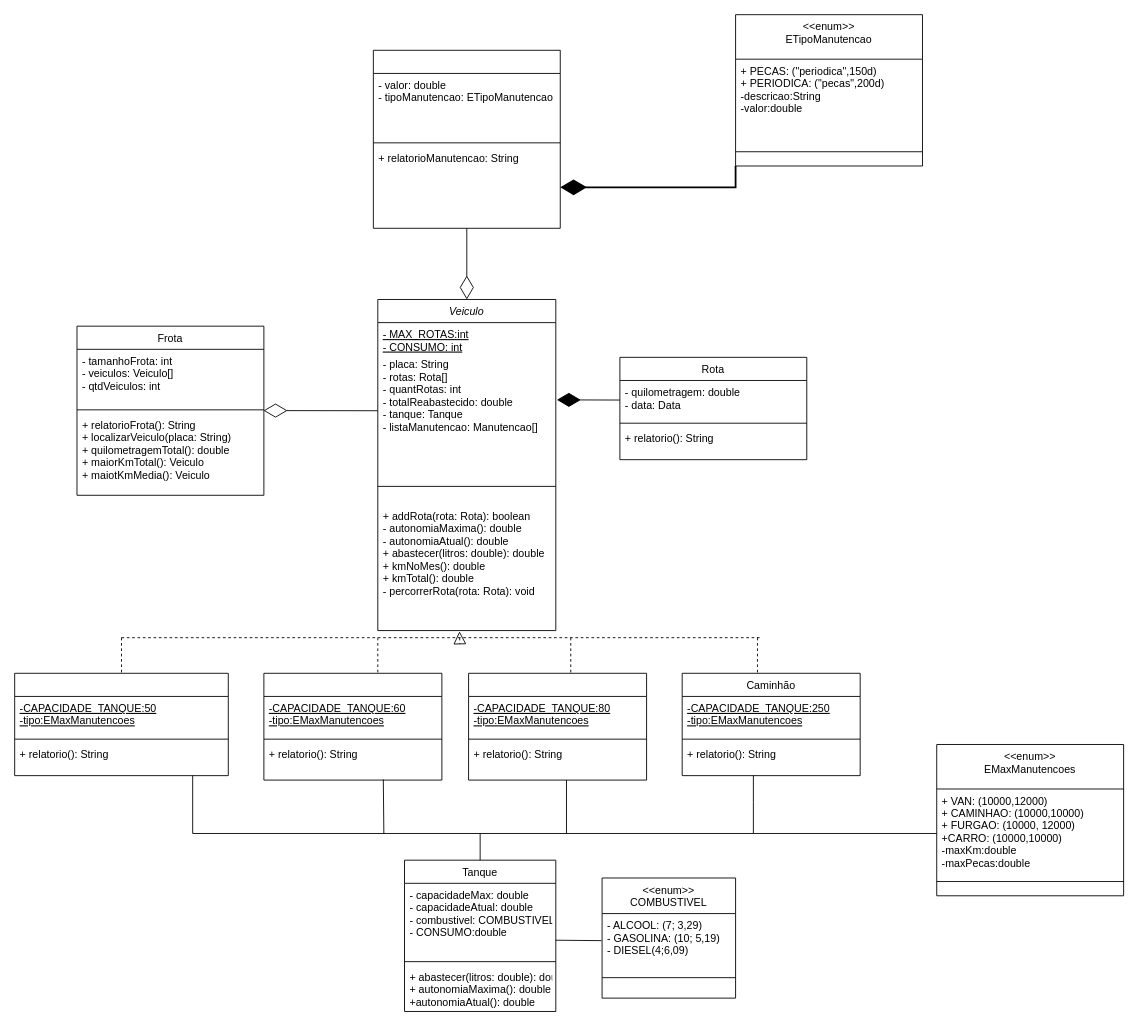
The diagram is 1138 pixels wide and 1026 high, and some of its shapes have lost their labels. The shapes that lost their labels are listed below. From the top down, each one's box as (x1, y1, x2, y2) in pixels, then its label:
(372, 49, 560, 228): Manutenção
(14, 672, 228, 776): Carro
(263, 672, 442, 780): Van
(468, 672, 647, 780): Furgão
